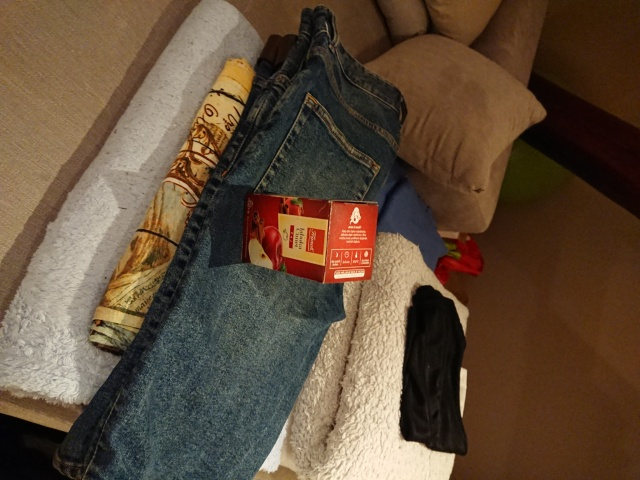Franck Apple Cinnamon Tea 60g: (237, 189, 382, 287)
